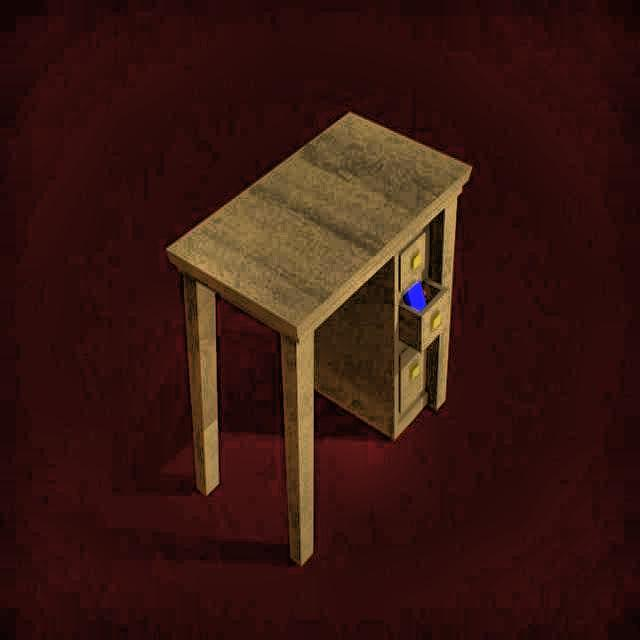mesa: (170, 107, 474, 568)
